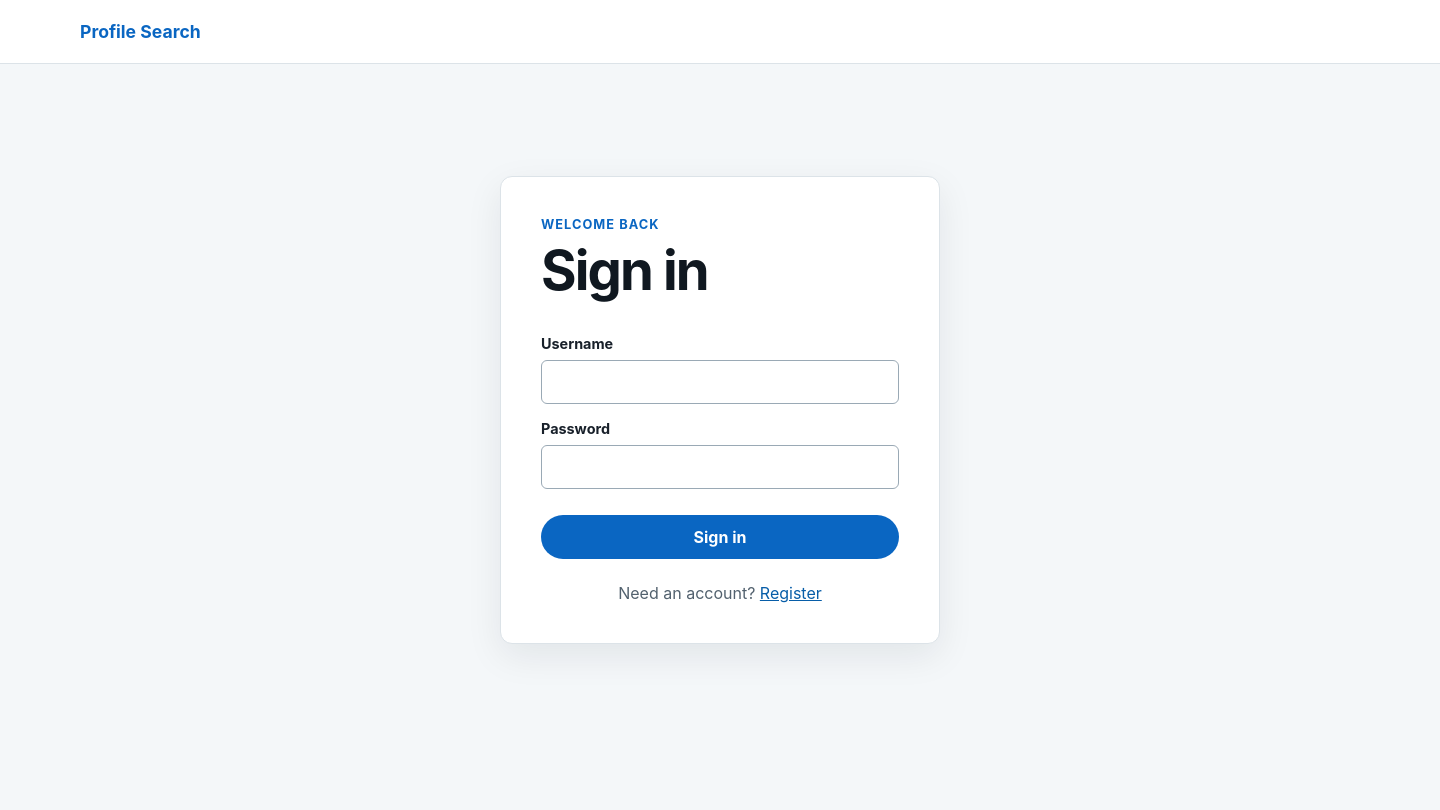
invalid credentials show a stable message and clear the password
expect the heading "Sign in" is shown: met, box [541,237,708,303]
Step 1. Type "reviewer" into the field labelled "Username" → point(720, 382), box [541,360,899,404]
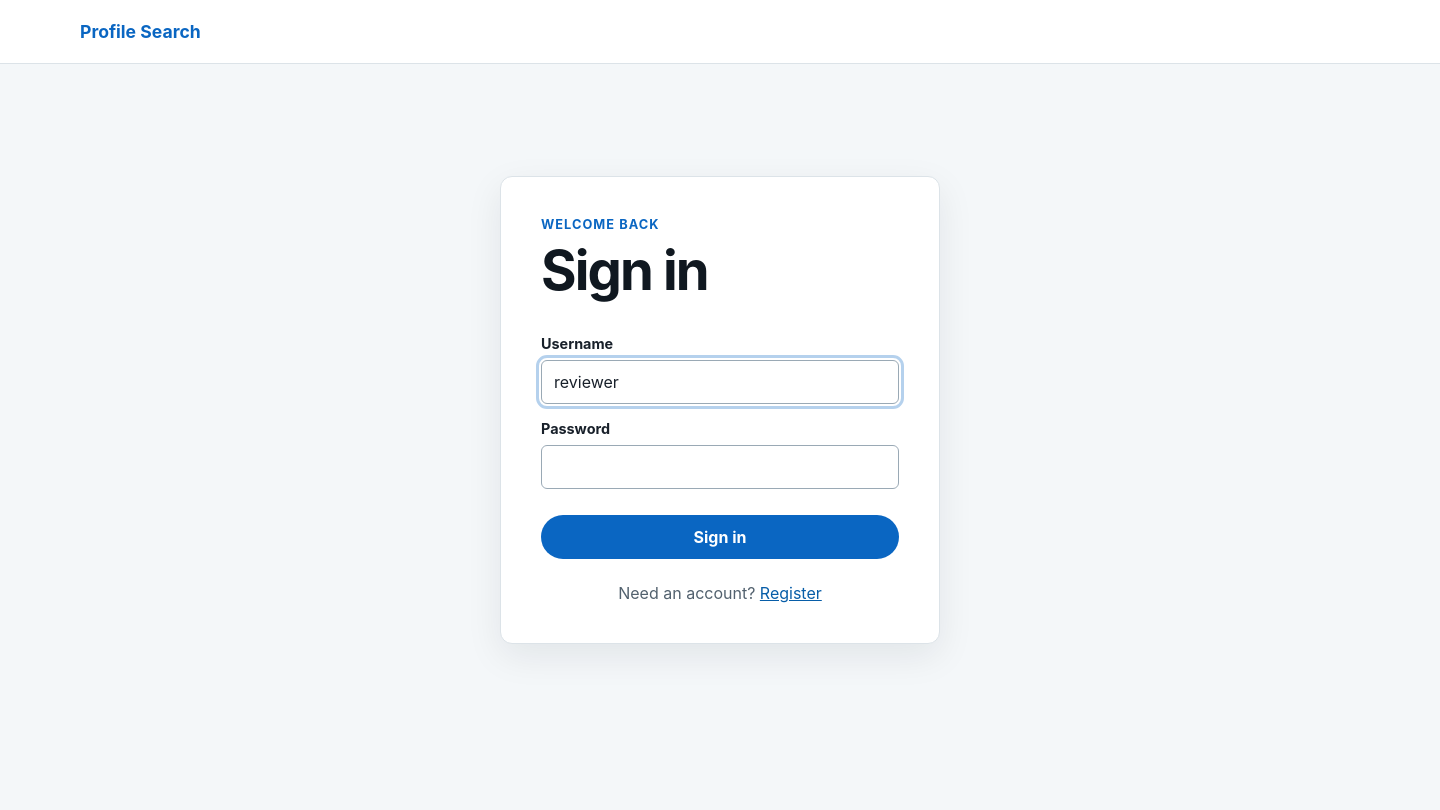
Step 2. Type "wrong-password" into the password field labelled "Password" → point(720, 467), box [541,445,899,489]
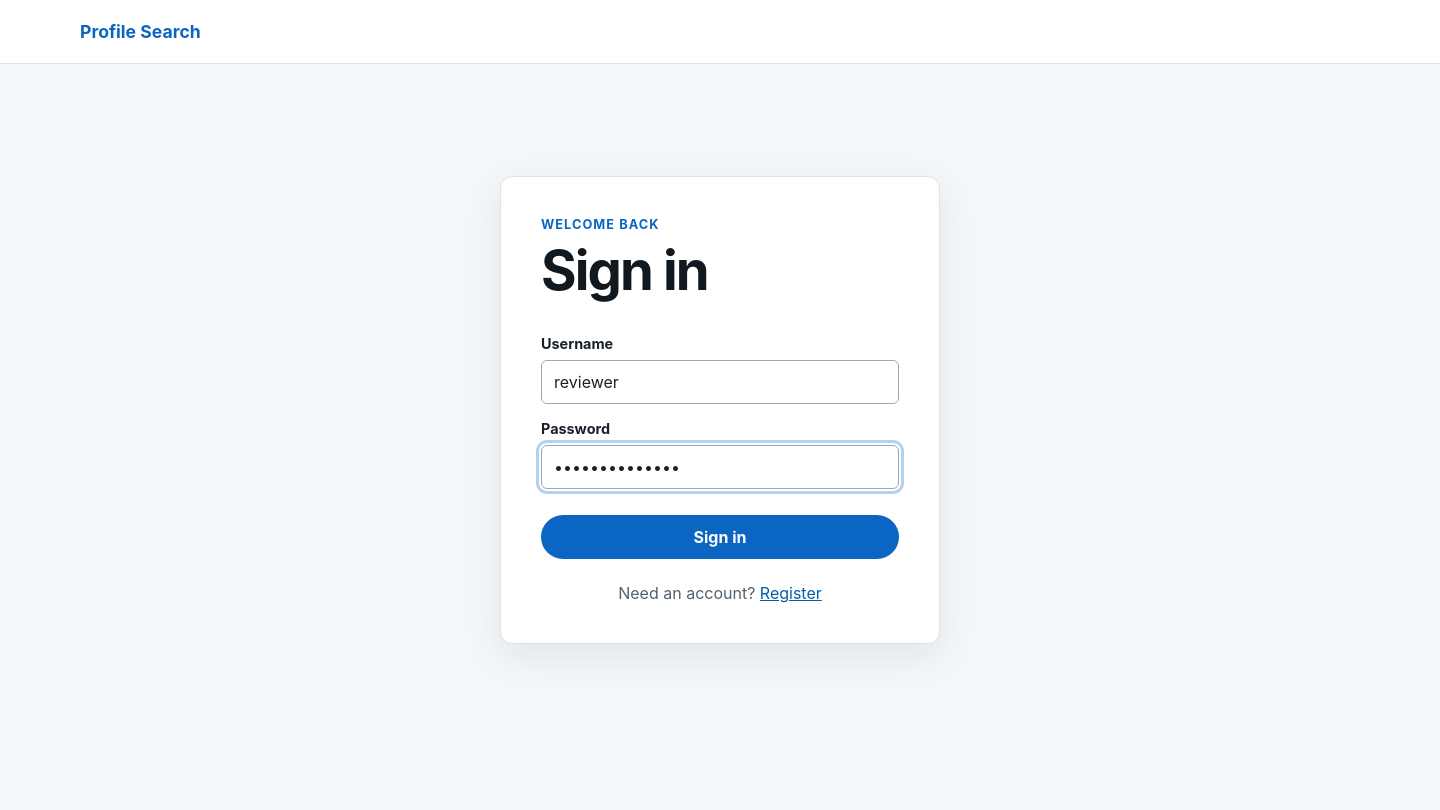
Step 3. Click the button "Sign in" → point(720, 537), box [541,515,899,559]
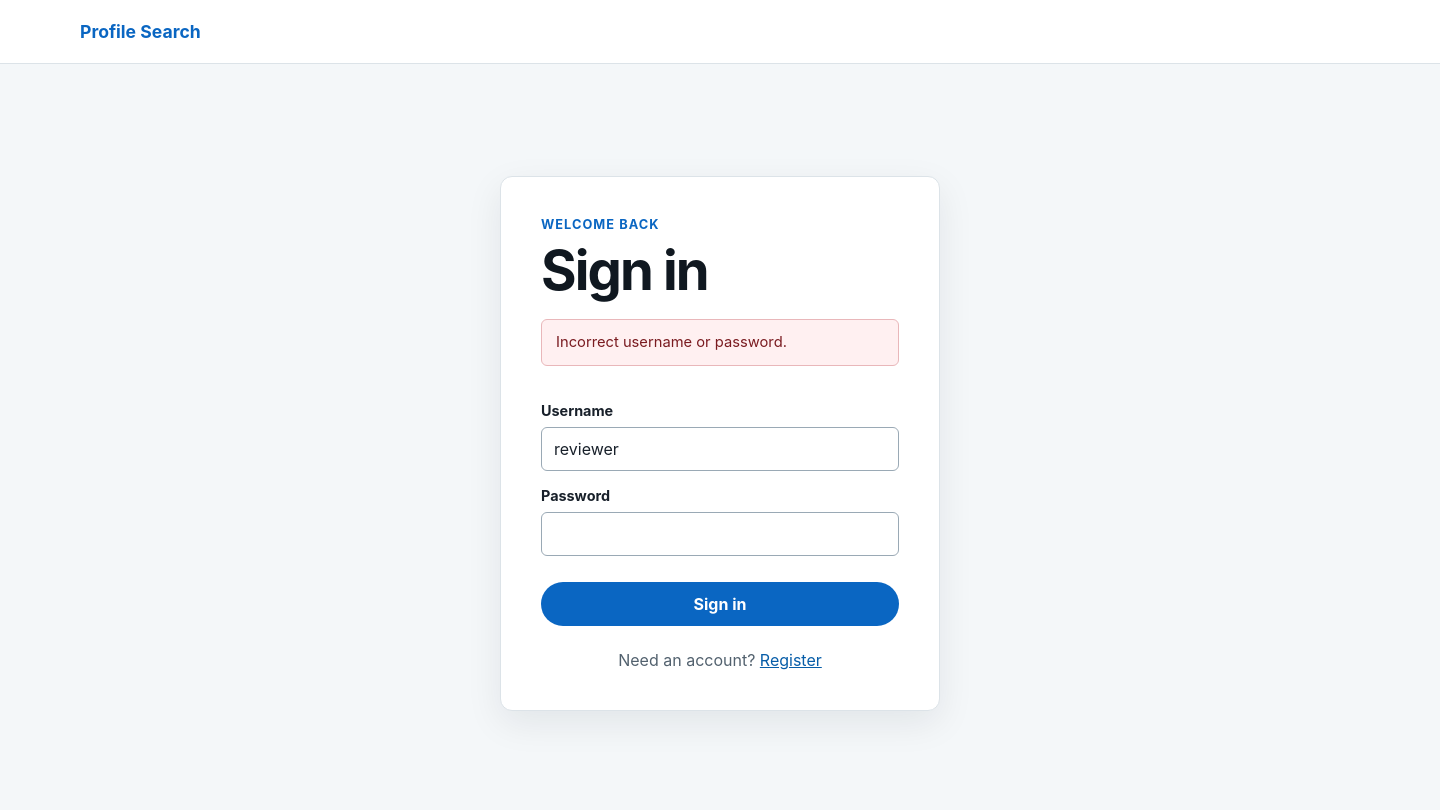
expect the message reads "Incorrect username or password.": met, box [556,333,787,351]
expect the password field labelled "Password" is empty: met, box [541,512,899,556]
